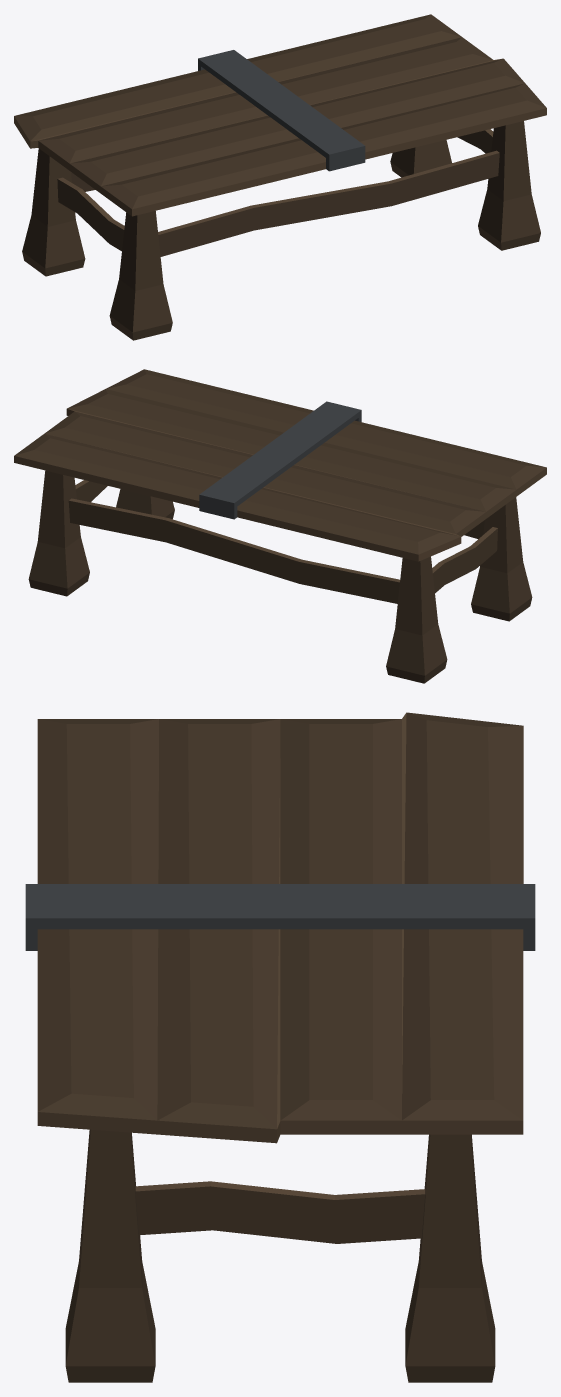
Rendered from Table_1_Brown.fbx.
3 renders of one model, top to bottom at view 1: azimuth 30°, elevation 25°; view 2: azimuth 150°, elevation 25°; view 3: azimuth 270°, elevation 25°, orthographic. The views are drawn at different scales.
Visible parts, largest first — view 1: Table_1_Brown_Part_1, Table_1_Brown_Part_2, Table_1_Brown_Part_3; view 2: Table_1_Brown_Part_1, Table_1_Brown_Part_2, Table_1_Brown_Part_3; view 3: Table_1_Brown_Part_1, Table_1_Brown_Part_3, Table_1_Brown_Part_2.
Part boxes in pixels (x1,y1,x2,y2): Table_1_Brown_Part_1: (14, 14, 546, 340); Table_1_Brown_Part_2: (14, 46, 546, 234); Table_1_Brown_Part_3: (198, 50, 365, 171); Table_1_Brown_Part_1: (14, 369, 546, 683); Table_1_Brown_Part_2: (14, 409, 546, 582); Table_1_Brown_Part_3: (199, 401, 361, 519); Table_1_Brown_Part_1: (37, 712, 523, 1382); Table_1_Brown_Part_3: (25, 884, 535, 950); Table_1_Brown_Part_2: (37, 713, 523, 1199).
Size of the model in its own units: 244 by 78.9 by 126.
